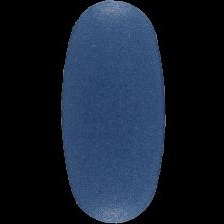33358-259: (0, 0, 224, 224)
